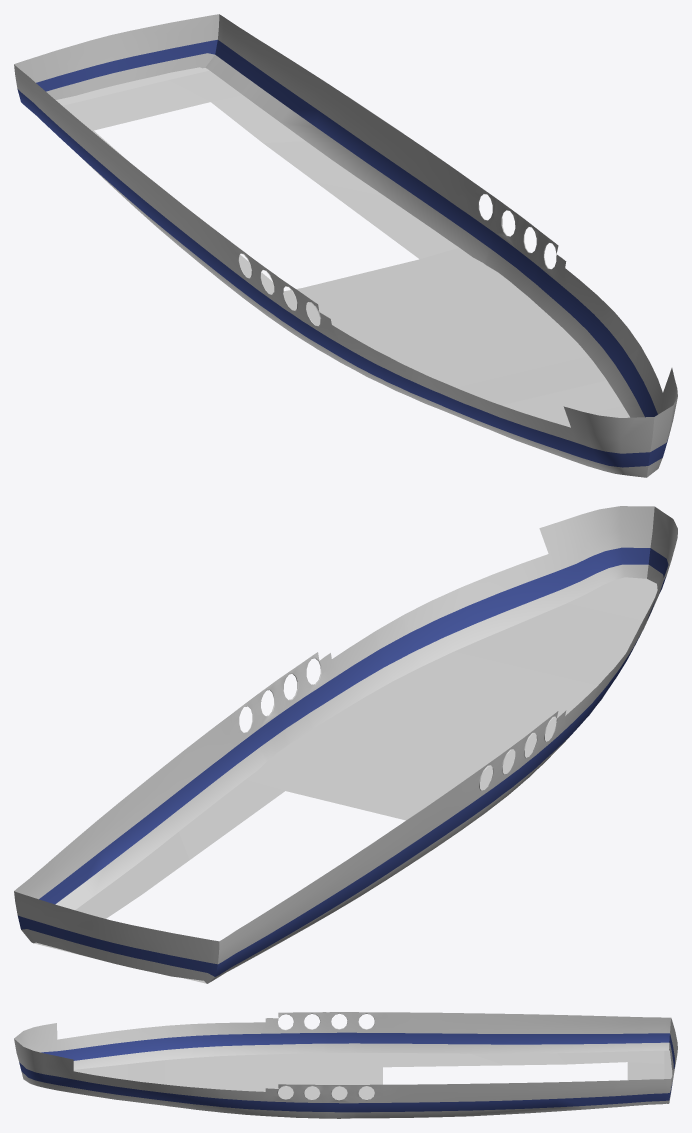
The model's file is Yacht_MyEdit_v2_Hull_LeakSection.fbx.
The picture shows the model from 3 angles, top to bottom: view 1: azimuth 30°, elevation 25°; view 2: azimuth 150°, elevation 25°; view 3: azimuth 270°, elevation 25°; orthographic projection. The views are drawn at different scales.
Visible parts, largest first — view 1: Hull_LeakSection; view 2: Hull_LeakSection; view 3: Hull_LeakSection.
Part boxes in pixels (box(x1,y1,x2,y2)): Hull_LeakSection: box(14, 14, 677, 477); Hull_LeakSection: box(14, 506, 677, 983); Hull_LeakSection: box(14, 1012, 677, 1118).
Size of the model in its own units: 69668 by 21745 by 268177.
